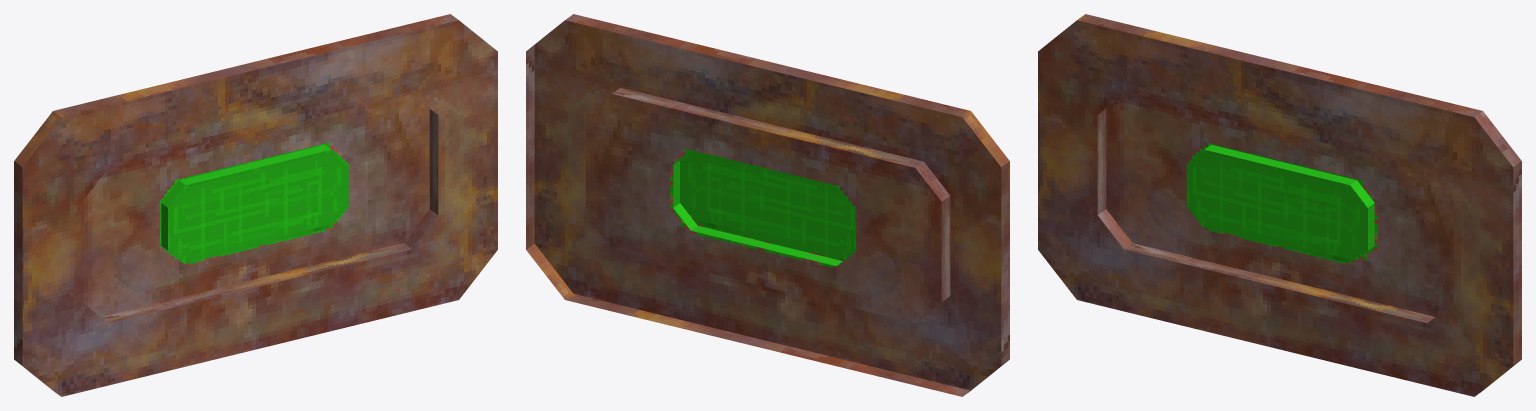
File: switchIsOn.glb
The picture shows the model from 3 angles, left to right: view 1: azimuth 30°, elevation 25°; view 2: azimuth 150°, elevation 25°; view 3: azimuth 330°, elevation 25°; orthographic projection.
Parts seen in each view (by area): view 1: Cube.004; view 2: Cube.004; view 3: Cube.004.
Boxes of the visible parts, x1,y1,x2,y2 form: Cube.004: (14,14,497,396); Cube.004: (526,14,1009,396); Cube.004: (1038,14,1521,396).
Bounding box in the file's own units: 0.8 × 0.45 × 0.025.
Materials: 1 (1 with a texture image).
